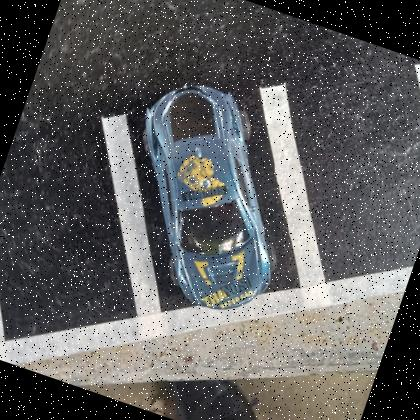Car: (143, 86, 271, 310)
